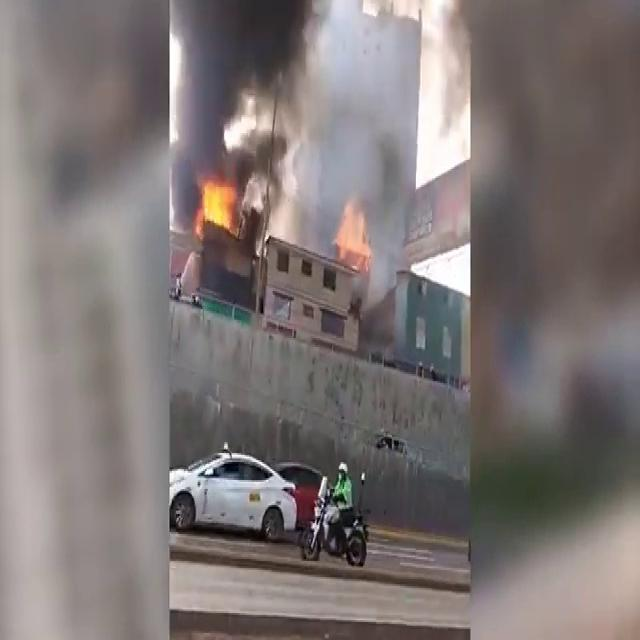Fire: (196, 178, 240, 222), (340, 208, 371, 264)
Smoke: (317, 26, 389, 178), (180, 16, 226, 162)
